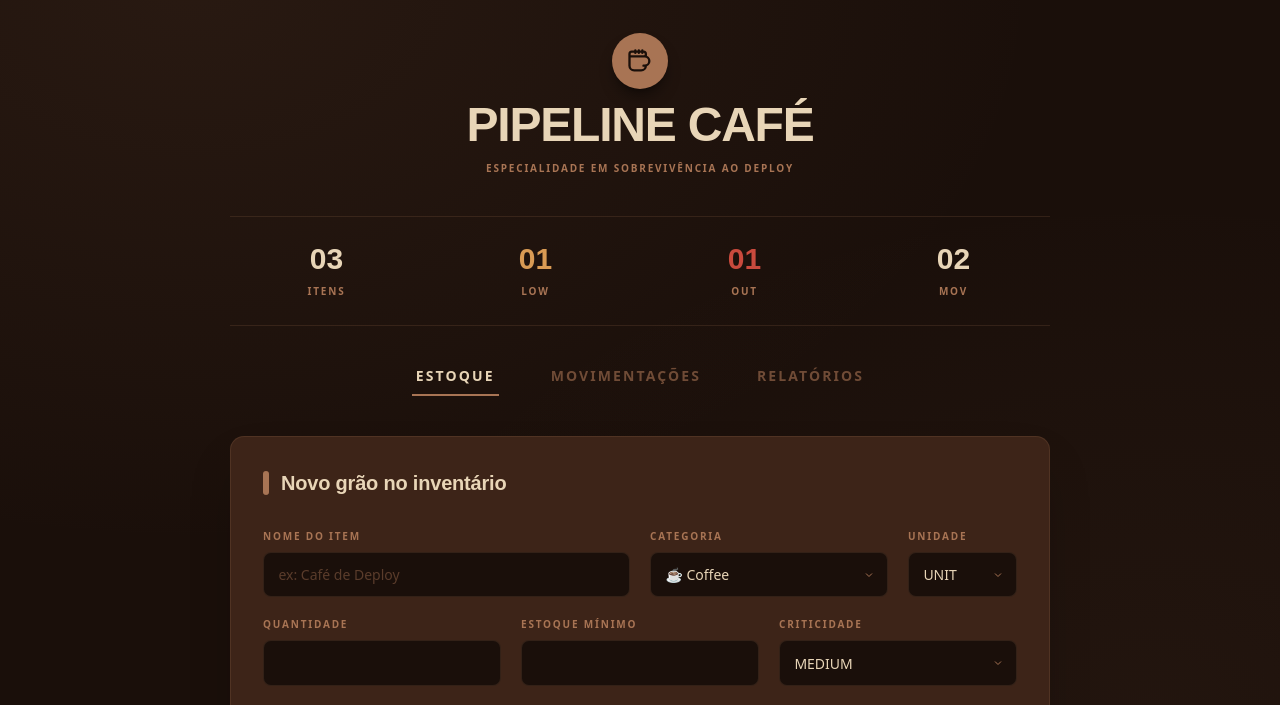
Test: PipelineCafePage › formulário de item › exibe fallback genérico ao falhar ao salvar
Type "Falha" into the field with placeholder "ex: Café de Deploy" at [446, 575], box [263, 552, 630, 597]
(page scrolled)
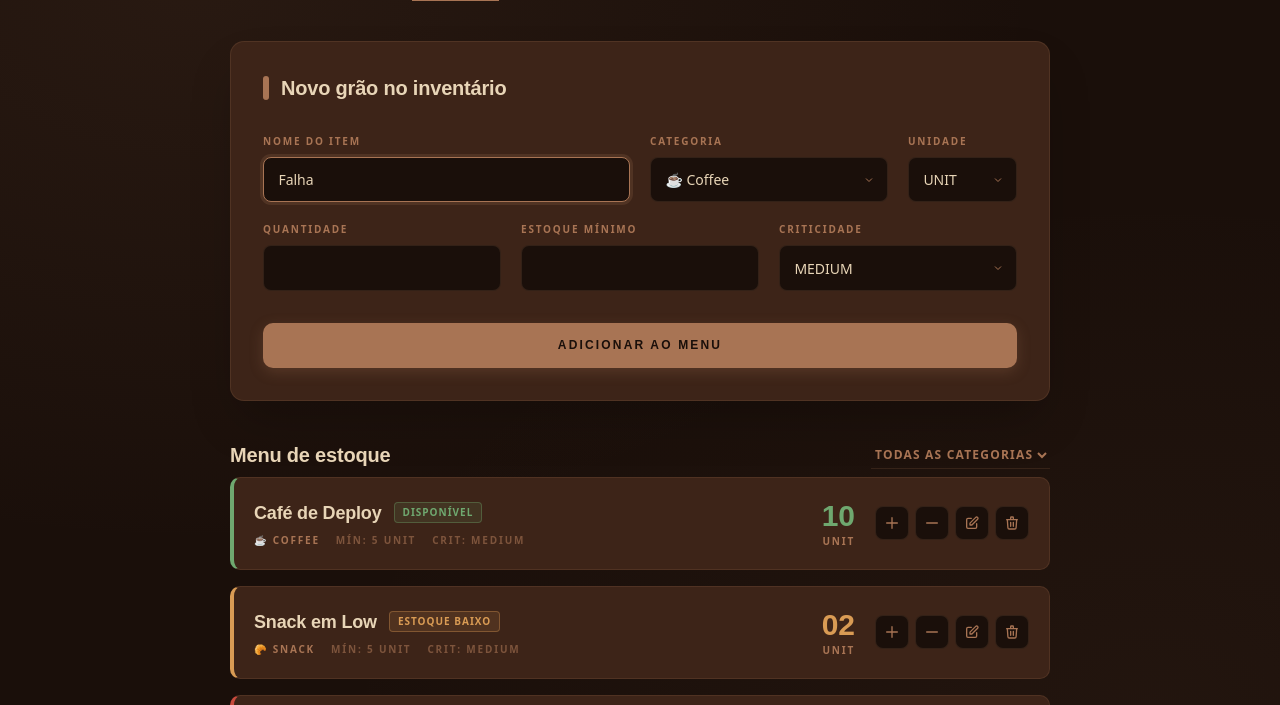
Click the button "ADICIONAR AO MENU" at [640, 345], box [263, 323, 1017, 368]
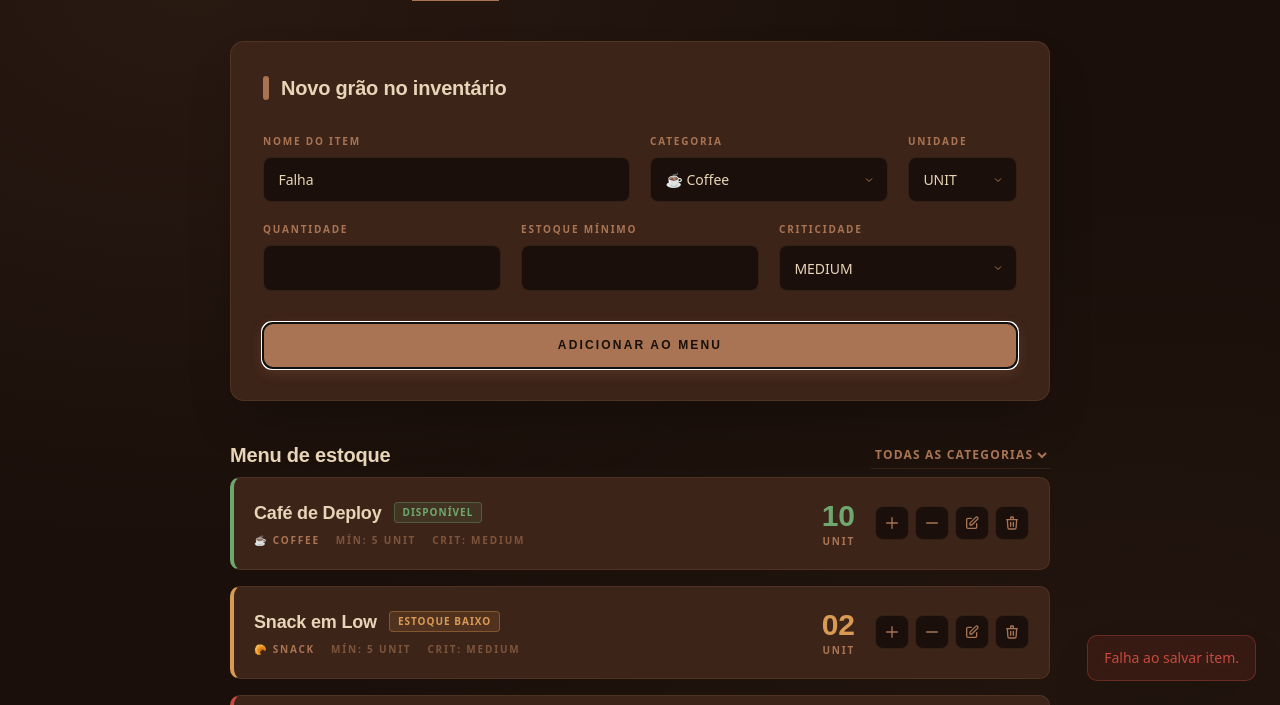
Now the text "Falha ao salvar item." is shown, box [1087, 635, 1256, 681]
